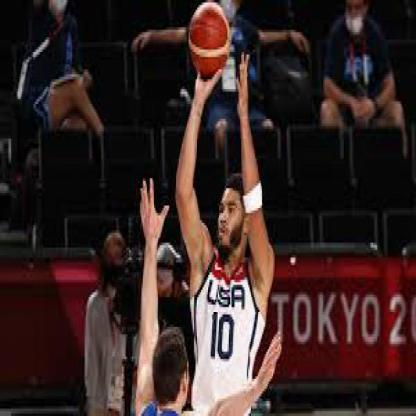basketball: (189, 1, 230, 81)
